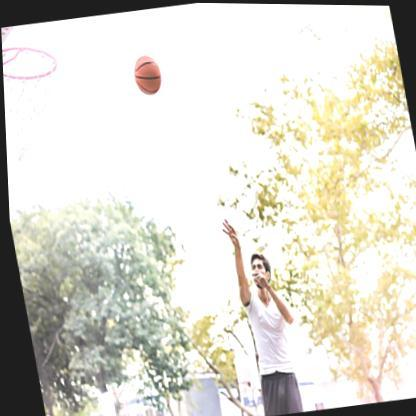basketball: (131, 52, 163, 96)
rim: (1, 40, 73, 162)
